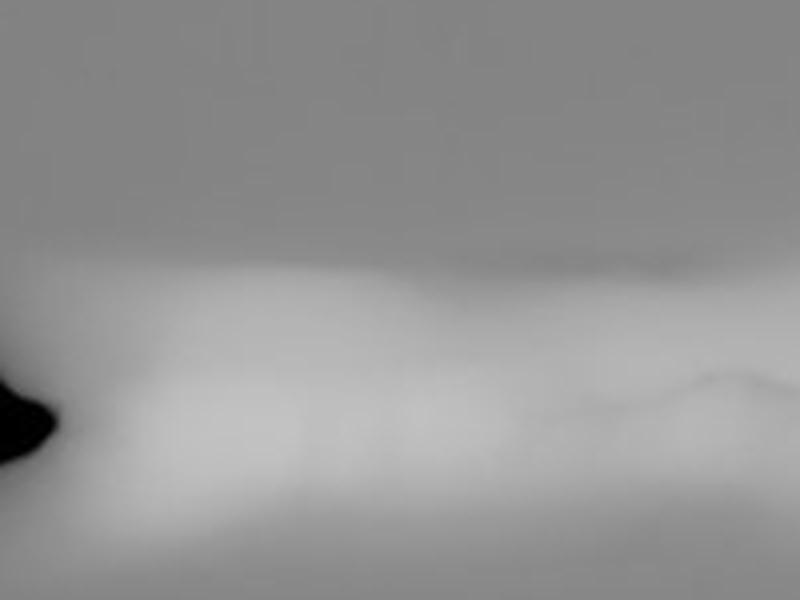defect: (4, 386, 61, 467)
